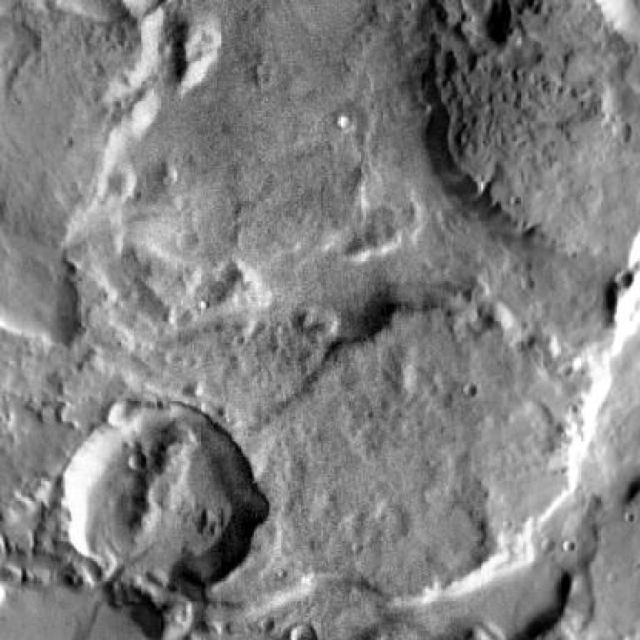crater: (64, 399, 262, 598), (283, 621, 314, 640), (171, 230, 192, 252), (125, 448, 144, 467), (256, 616, 273, 632), (338, 116, 354, 132), (631, 255, 640, 270)
